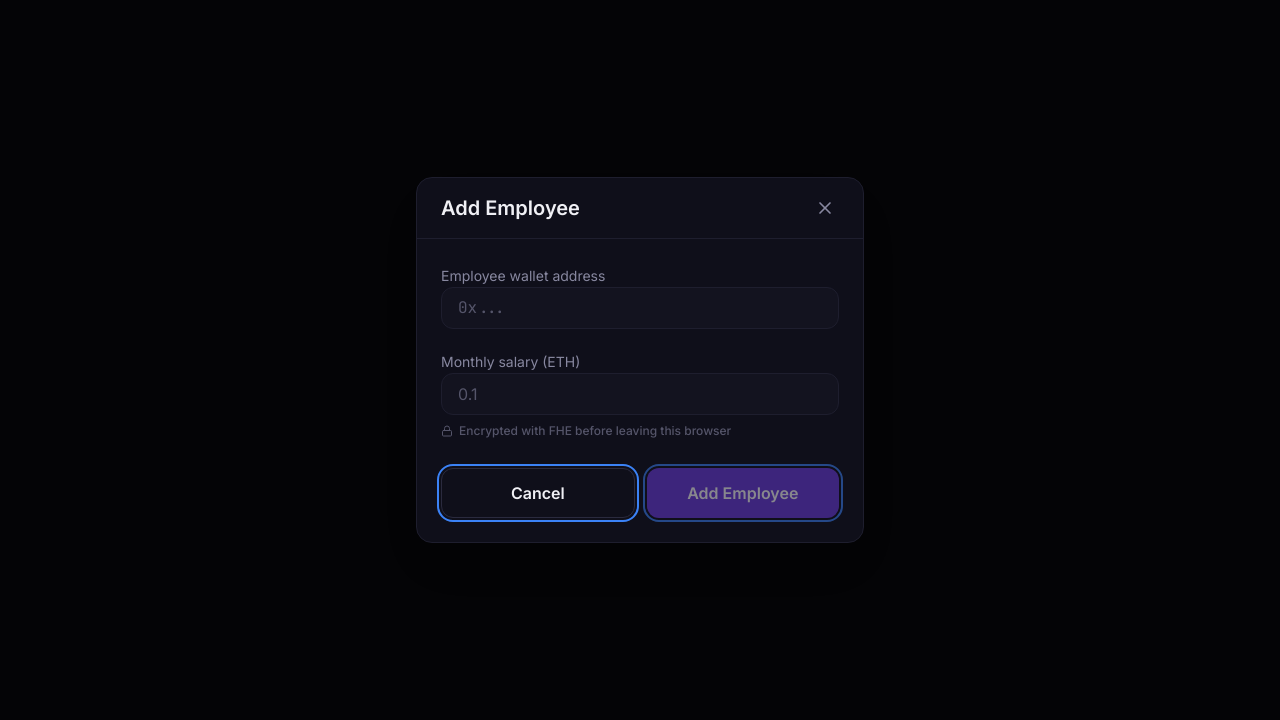
Test: AddEmployeeModal › successful submit flow › shows the signing step while waiting for wallet confirmation
In the field with placeholder "0x...": {"x": 640, "y": 308} [441,287,839,329], type "0xCa21b5f07a126F649EBFFAE82F997334e85E00AF"
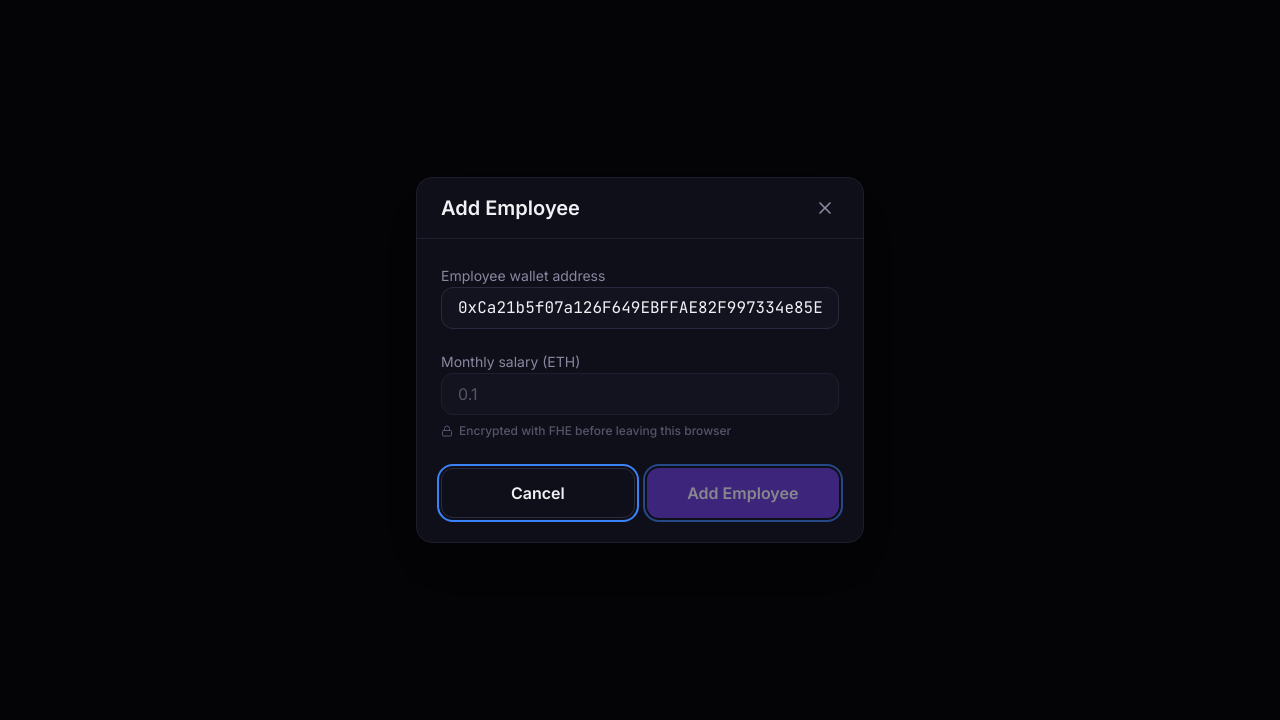
In the number field with placeholder "0.1": {"x": 640, "y": 394} [441,373,839,415], type "0.05"
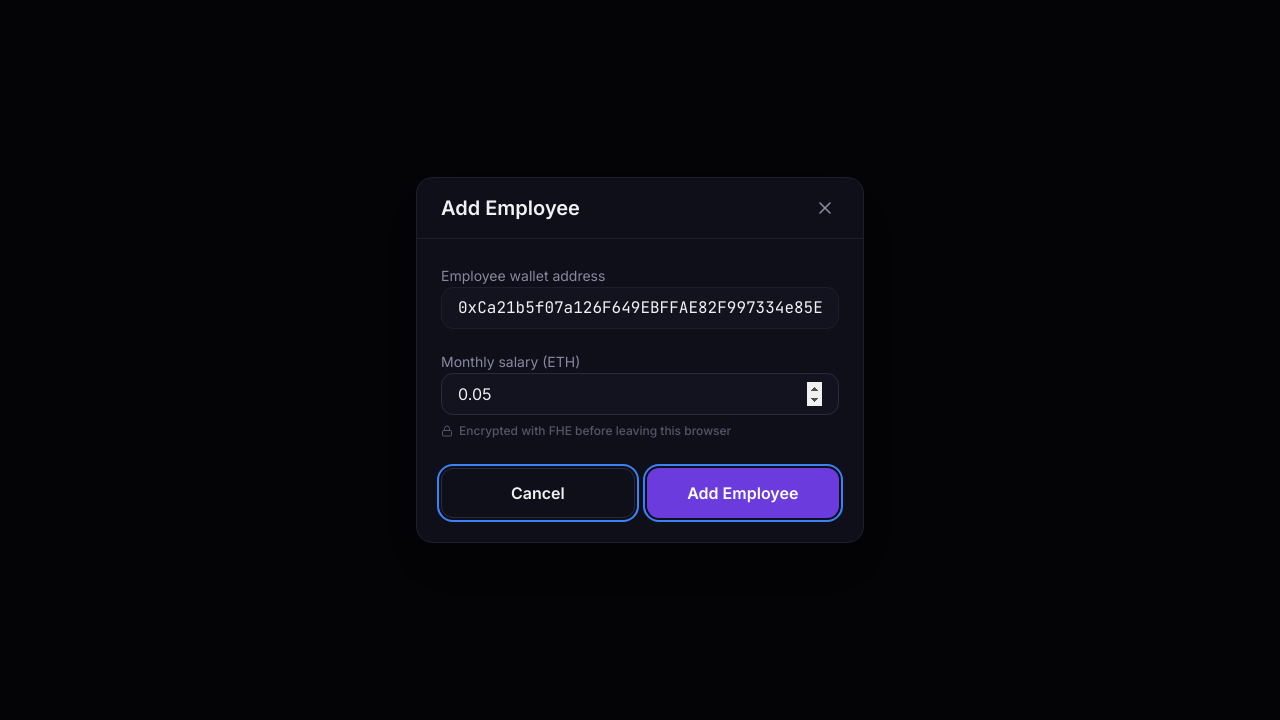
Click the button "Add Employee": {"x": 743, "y": 493} [647,468,839,518]
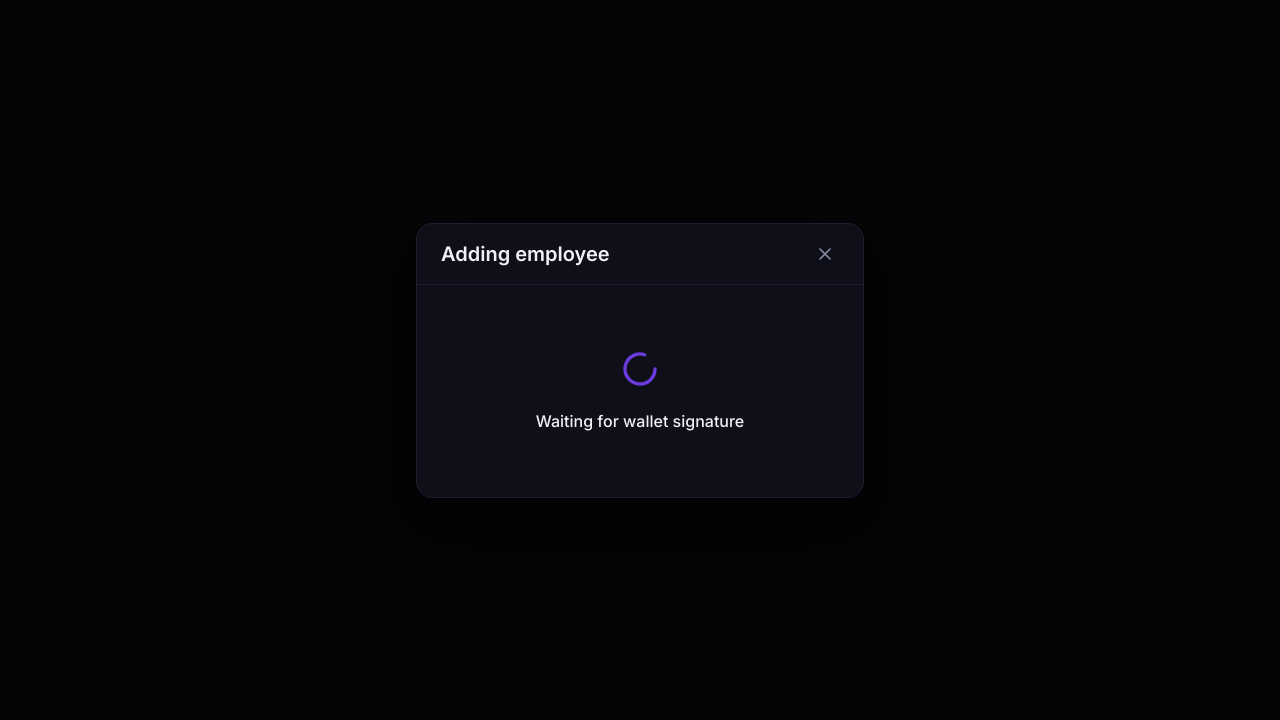
Check: the text "Waiting for wallet signature" is shown, box [536,408,744,432]
